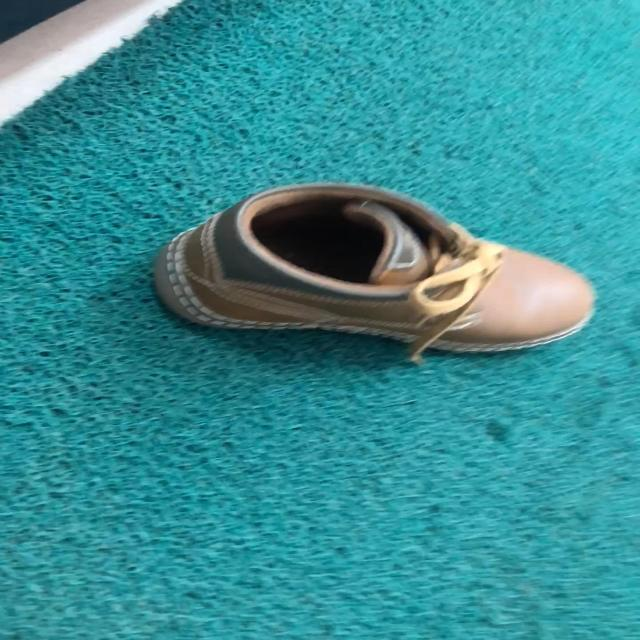shoe: (152, 185, 596, 362)
